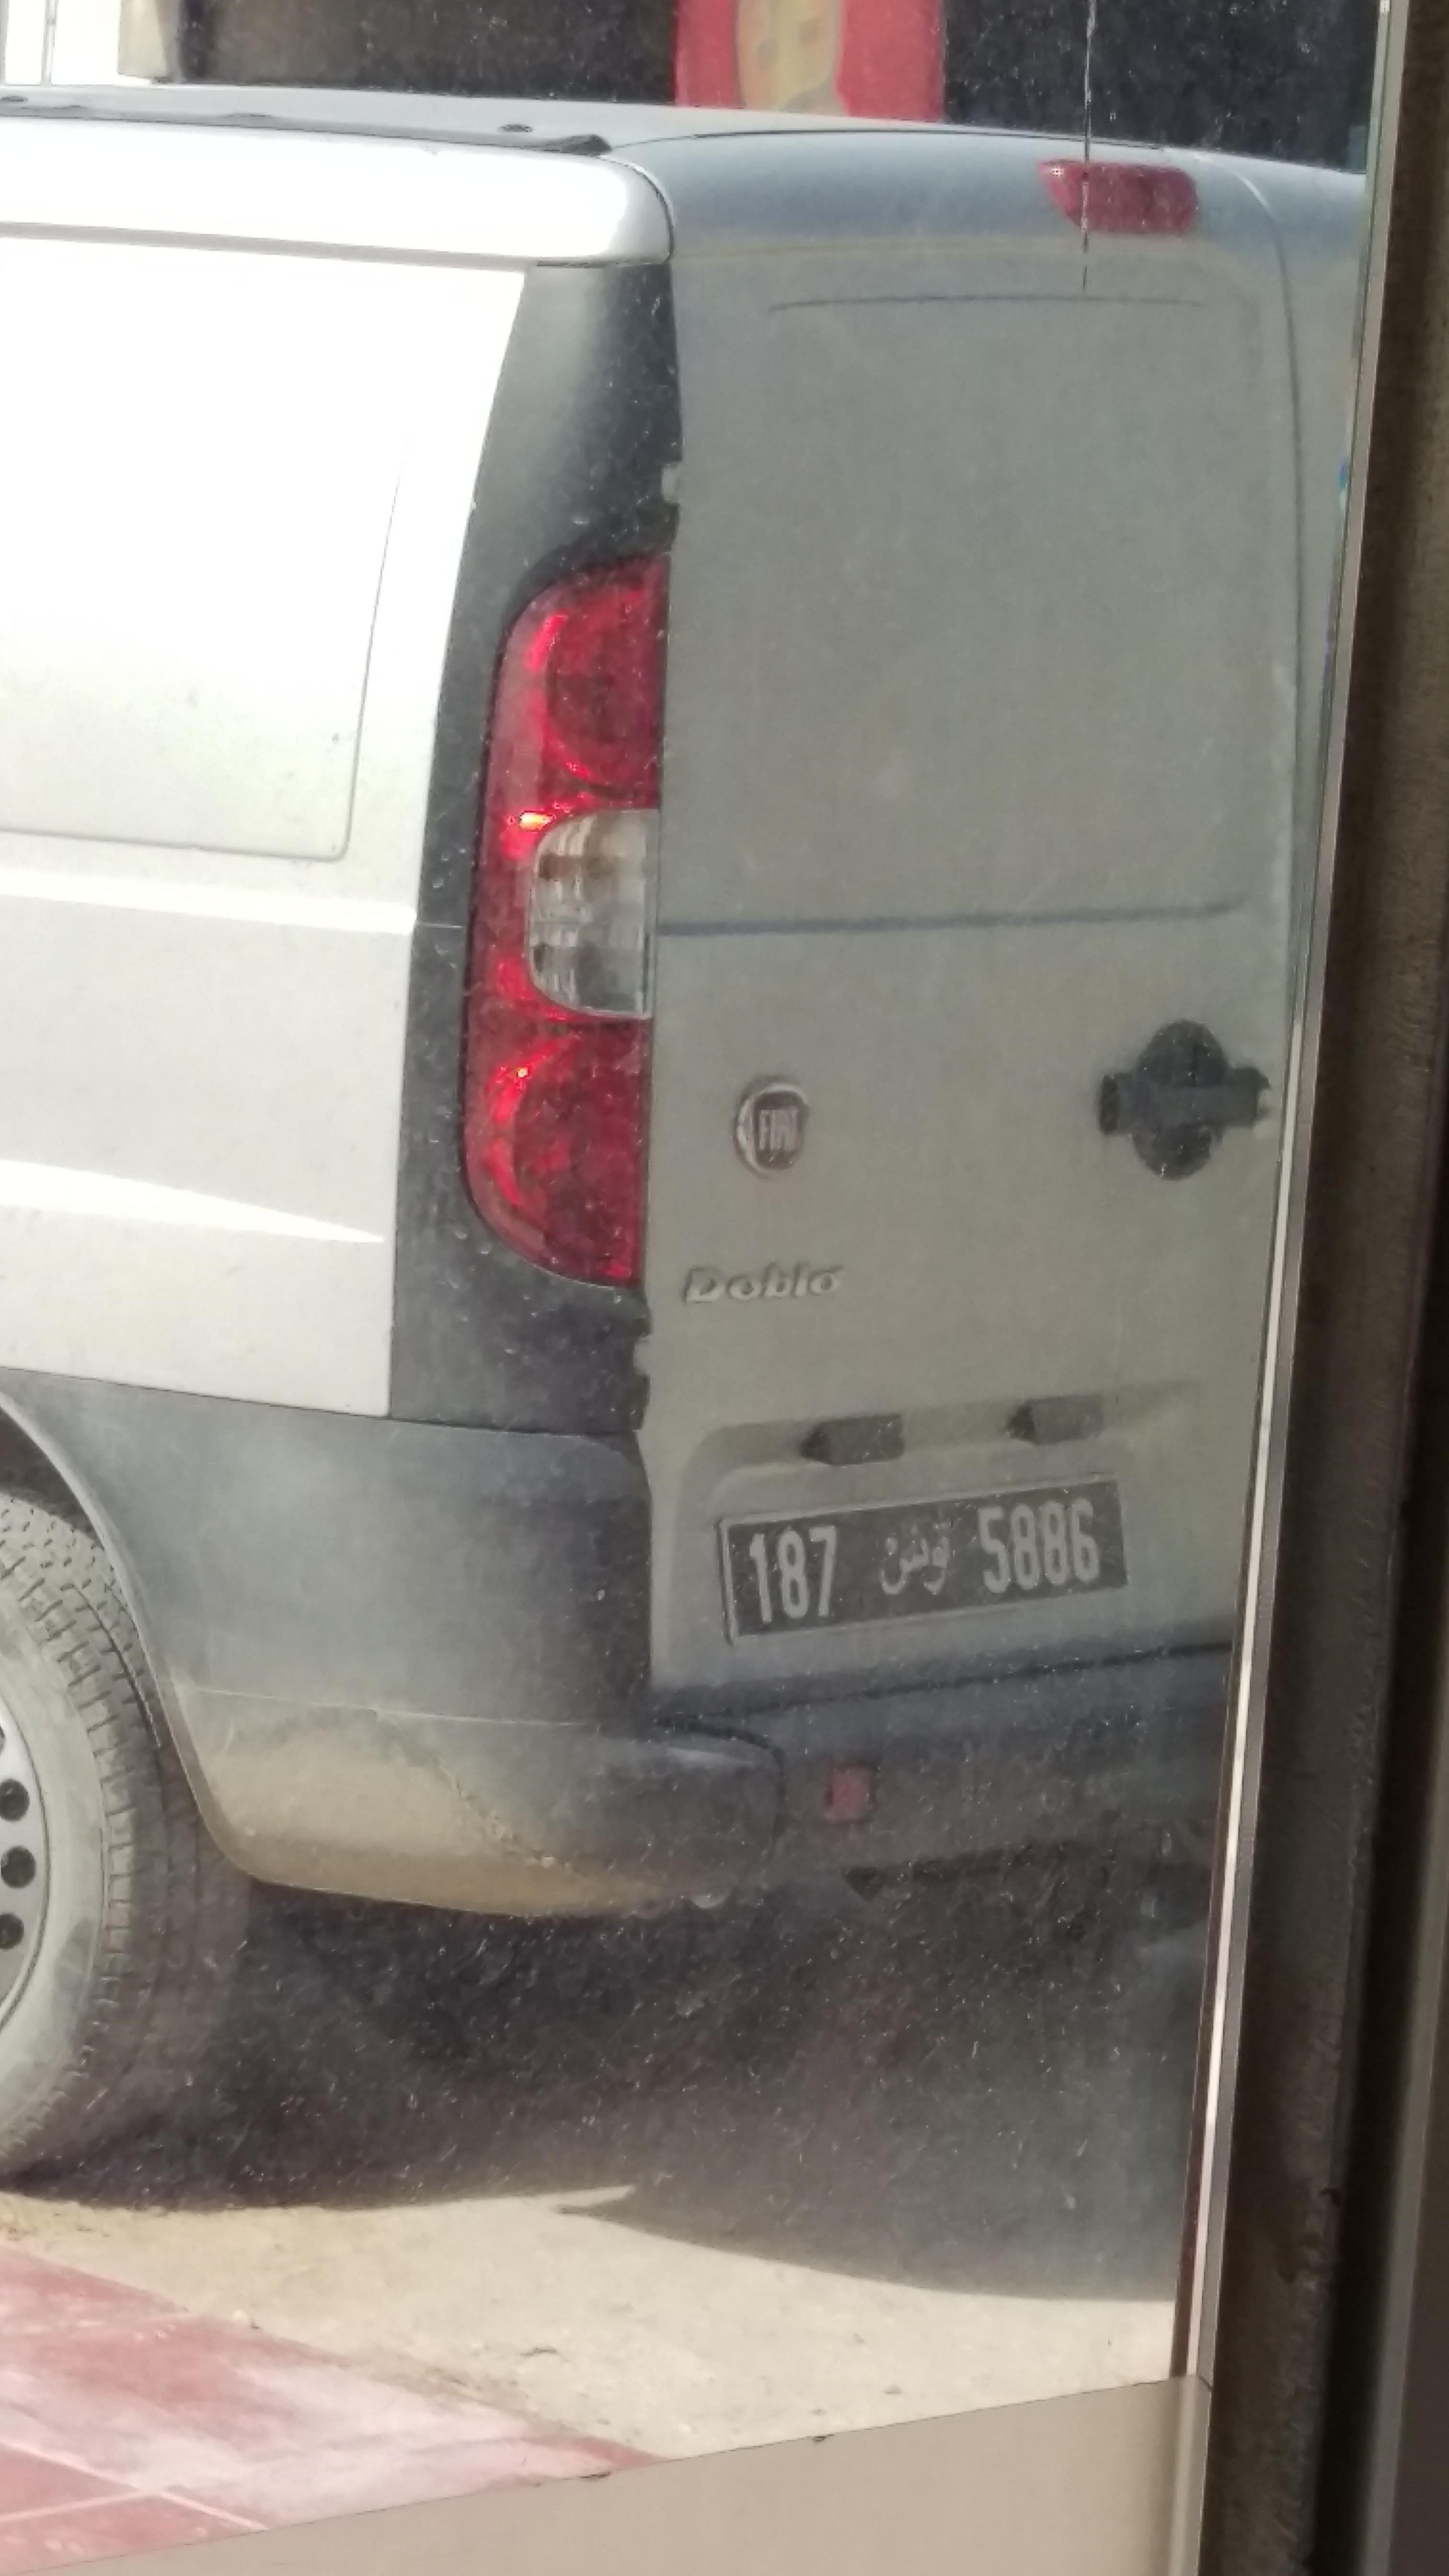LP: (701, 1471, 1140, 1657)
